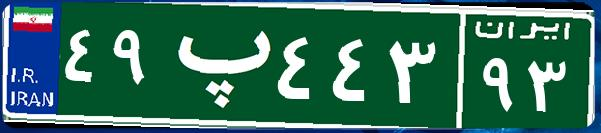3: (385, 28, 445, 110), (525, 38, 570, 115)
4: (273, 28, 330, 110), (330, 28, 385, 110), (57, 26, 110, 107)
9: (475, 38, 525, 113), (110, 28, 158, 105)
پ: (158, 15, 273, 115)
